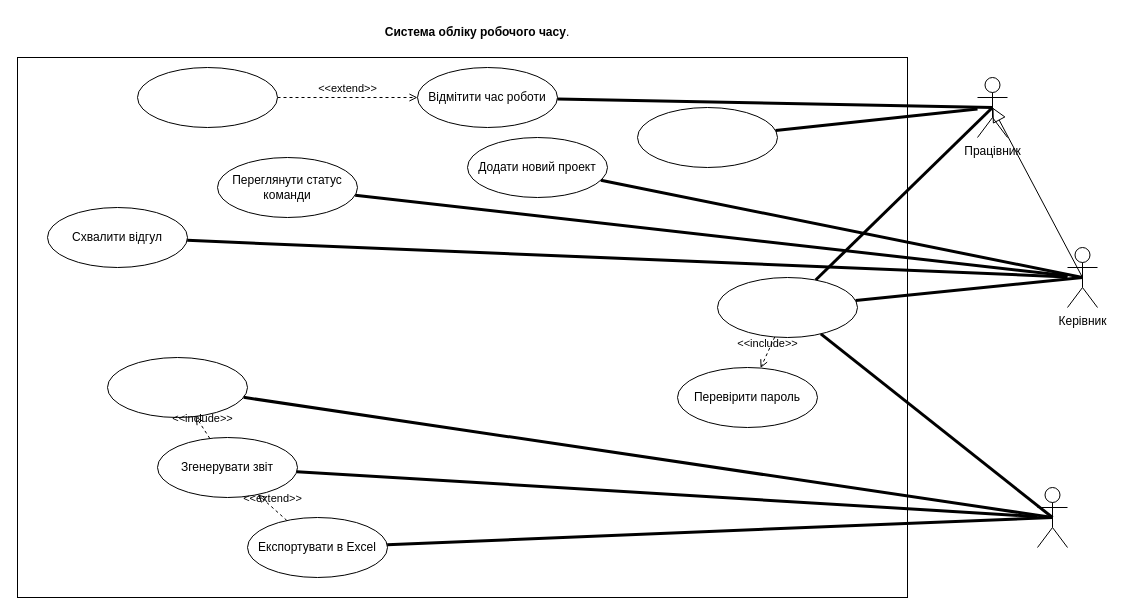
Image size: 1124x615. Some labels were removed from this diagram. The centre of each missing label's shape, as x and y in pixels:
"Авторизуватися" belongs at [787,307].
"Бухгалтер" belongs at [1052,517].
"Запросити відгул" belongs at [707,137].
"Переглянути табель" belongs at [177,387].
"Редагувати час вручну" belongs at [207,97].
